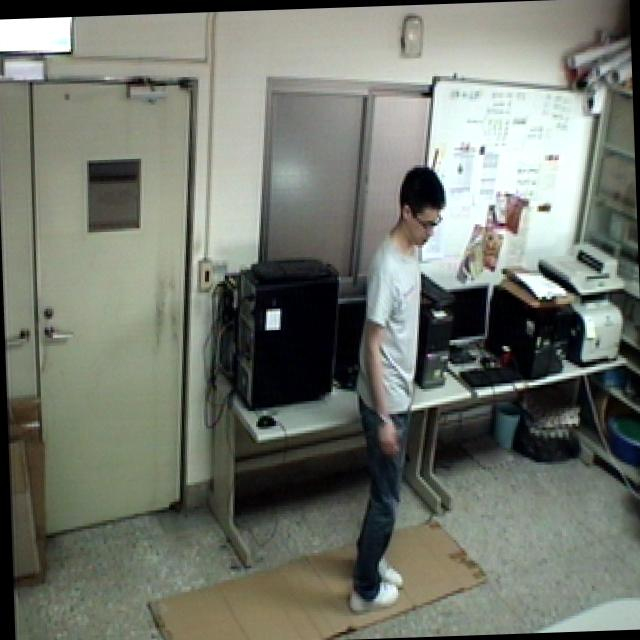stand: (326, 161, 462, 616)
